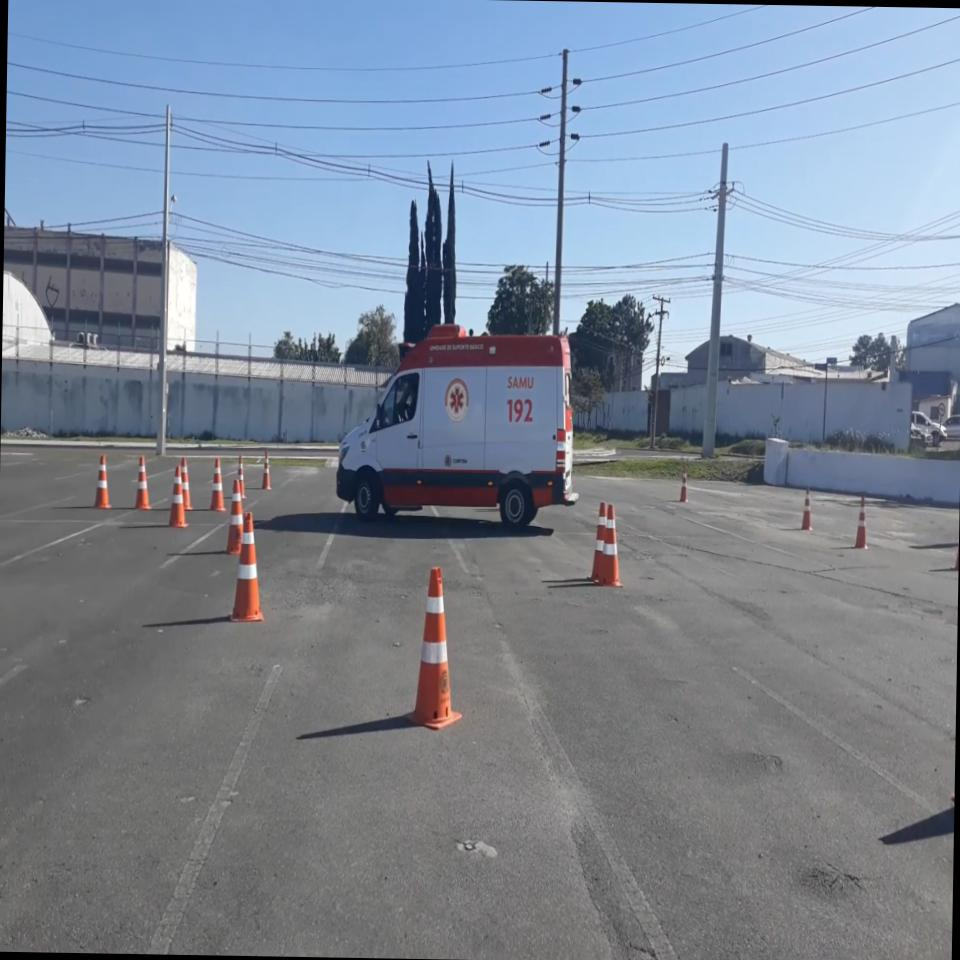bombeiro: (335, 316, 581, 536)
